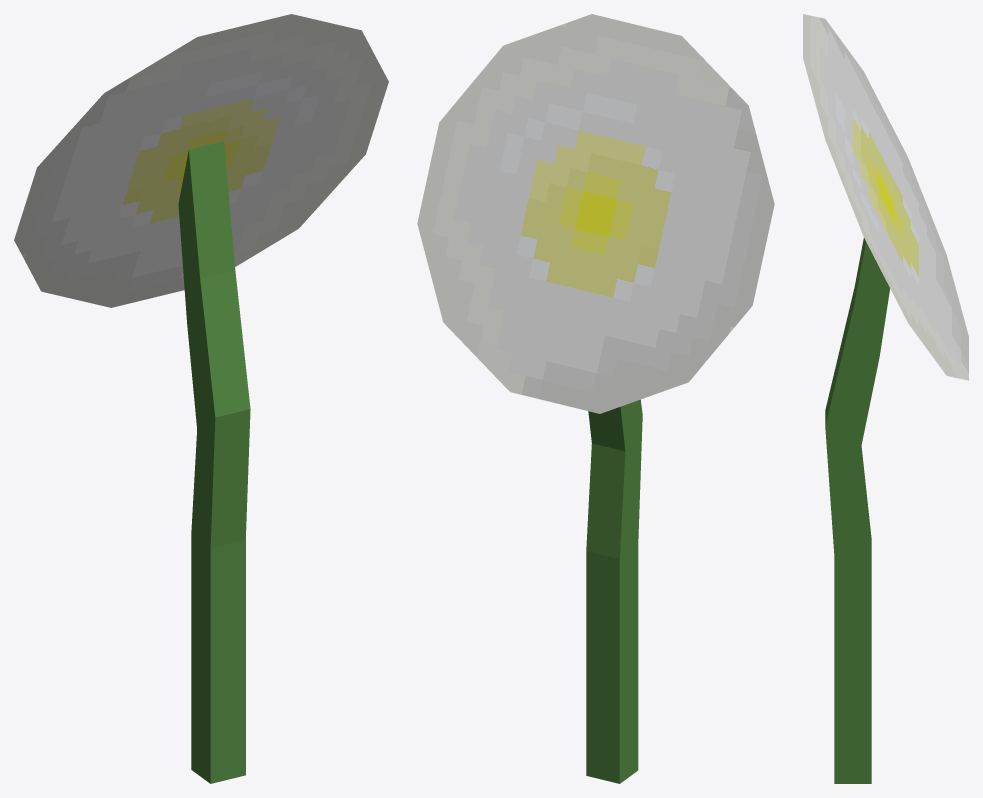
The model's file is FlowerTest.obj.
The picture shows the model from 3 angles, left to right: view 1: azimuth 30°, elevation 25°; view 2: azimuth 150°, elevation 25°; view 3: azimuth 270°, elevation 25°; orthographic projection. The views are drawn at different scales.
Parts seen in each view (by area): view 1: circle, cuboid; view 2: circle, cuboid; view 3: circle, cuboid.
Boxes of the visible parts, bbox=[...] form: circle: bbox=[14, 14, 388, 307]; cuboid: bbox=[178, 141, 250, 783]; circle: bbox=[417, 14, 774, 413]; cuboid: bbox=[586, 399, 642, 783]; circle: bbox=[803, 14, 968, 380]; cuboid: bbox=[825, 238, 889, 783].
Bounding box in the file's own units: 0.625 × 1.3 × 0.2641.
